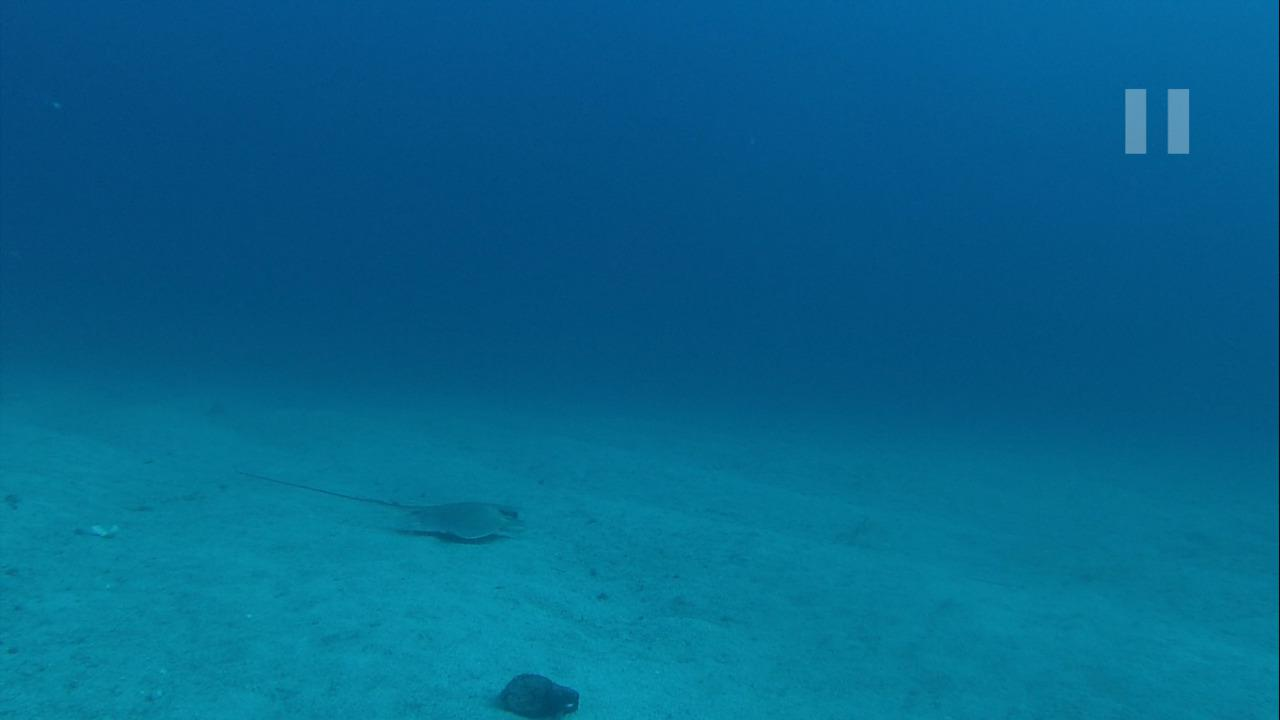myliobatis: (220, 461, 530, 551)
